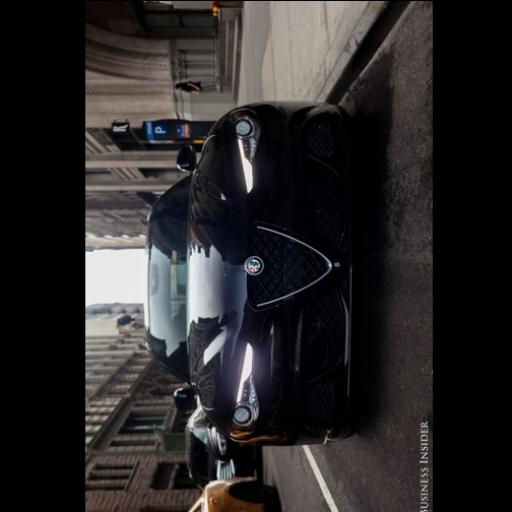sedan: (145, 103, 354, 444), (184, 406, 255, 490), (186, 477, 277, 512)
